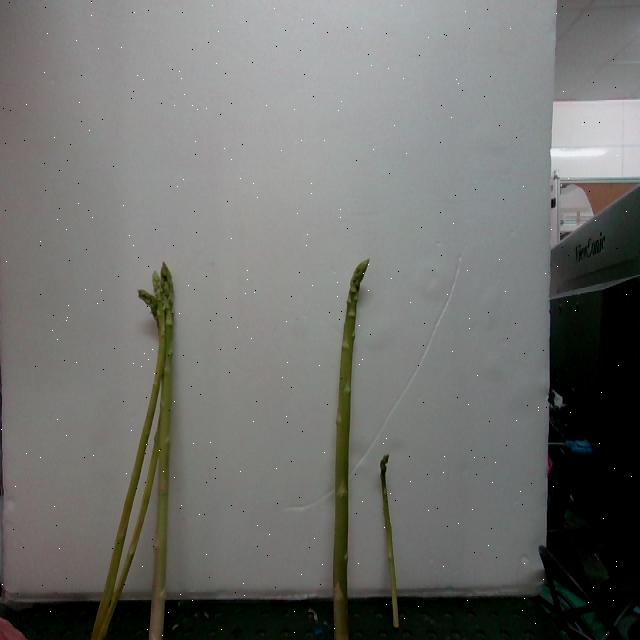aspargus: (330, 262, 368, 640), (148, 258, 177, 640), (379, 454, 403, 629)
